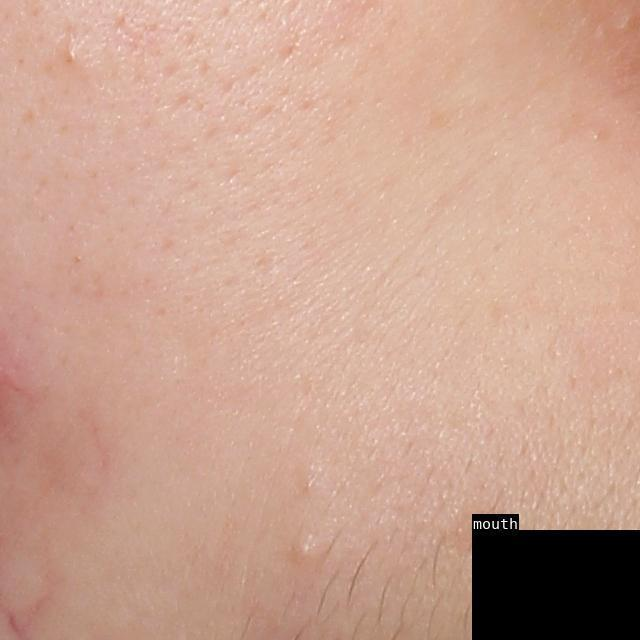comedo: (61, 43, 84, 67), (293, 537, 315, 561), (300, 476, 319, 493)
